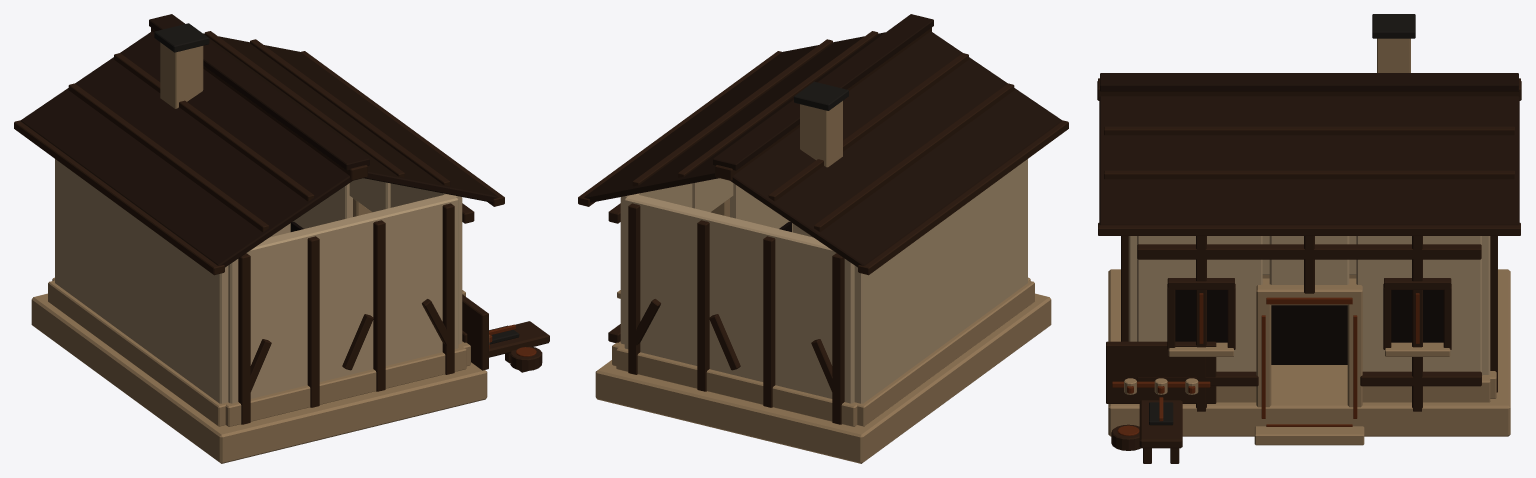
File: workshop-exterior.glb
3 views of the same model, side by side, from view 1: azimuth 30°, elevation 25°; view 2: azimuth 150°, elevation 25°; view 3: azimuth 270°, elevation 25° (orthographic). The views are drawn at different scales.
Visible parts, largest first — view 1: WorkshopExterior_PlasterAssembly, WorkshopExterior_RoofAssembly, WorkshopExterior_LimestoneAssembly, WorkshopExterior_WoodAssembly, WorkshopExterior_IronAssembly; view 2: WorkshopExterior_PlasterAssembly, WorkshopExterior_RoofAssembly, WorkshopExterior_LimestoneAssembly, WorkshopExterior_WoodAssembly, WorkshopExterior_IronAssembly; view 3: WorkshopExterior_RoofAssembly, WorkshopExterior_WoodAssembly, WorkshopExterior_LimestoneAssembly, WorkshopExterior_PlasterAssembly, WorkshopExterior_InteriorAssembly, WorkshopExterior_CopperAssembly, WorkshopExterior_IronAssembly.
Part boxes in pixels (x1,y1,x2,y2): WorkshopExterior_PlasterAssembly: (55,159,462,403); WorkshopExterior_RoofAssembly: (20,14,498,267); WorkshopExterior_LimestoneAssembly: (31,42,489,463); WorkshopExterior_WoodAssembly: (14,27,549,424); WorkshopExterior_IronAssembly: (154,23,519,344); WorkshopExterior_PlasterAssembly: (620,159,1027,403); WorkshopExterior_RoofAssembly: (584,14,1062,267); WorkshopExterior_LimestoneAssembly: (595,101,1051,463); WorkshopExterior_WoodAssembly: (578,27,1068,424); WorkshopExterior_IronAssembly: (794,81,848,110); WorkshopExterior_RoofAssembly: (1099,73,1519,225); WorkshopExterior_WoodAssembly: (1097,78,1521,463); WorkshopExterior_LimestoneAssembly: (1108,38,1510,445); WorkshopExterior_PlasterAssembly: (1128,236,1490,375); WorkshopExterior_InteriorAssembly: (1175,290,1443,364); WorkshopExterior_CopperAssembly: (1112,293,1419,435); WorkshopExterior_IronAssembly: (1149,14,1415,425).
Bounding box in the file's own units: 8.66 × 7.16 × 8.44.
